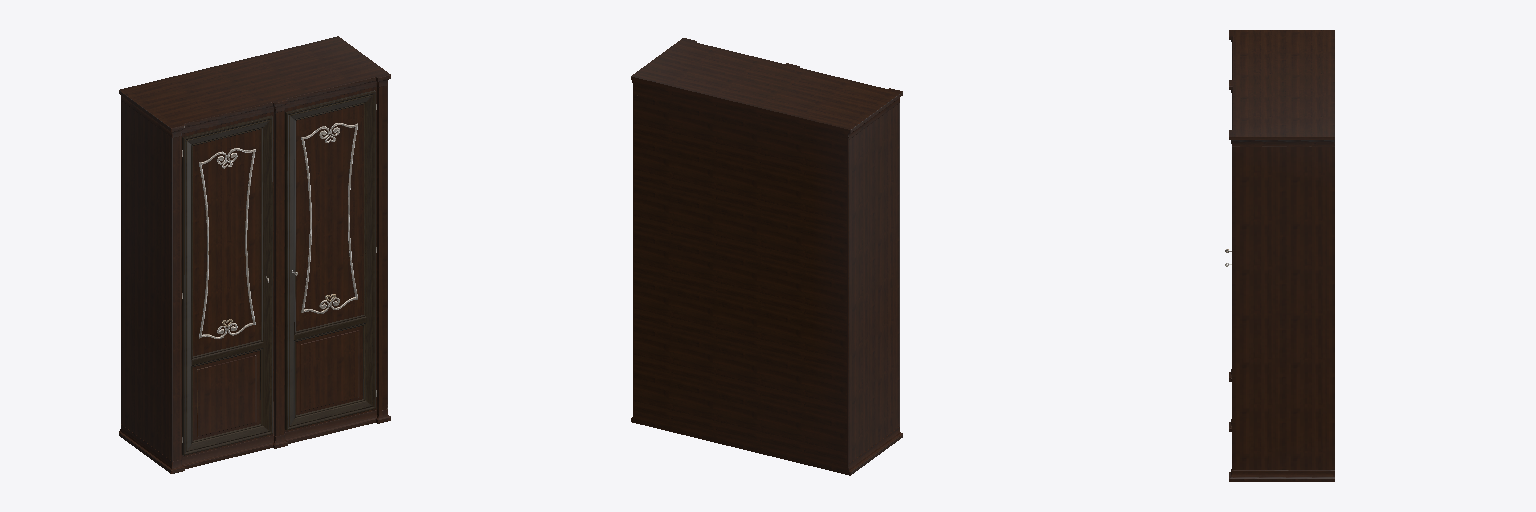
3 views of the same model, side by side, from view 1: azimuth 30°, elevation 25°; view 2: azimuth 150°, elevation 25°; view 3: azimuth 270°, elevation 25° (orthographic).
Parts seen in each view (by area): view 1: solid_001, solid_003, solid_002; view 2: solid_001; view 3: solid_001.
Boxes of the visible parts, x1=… form: solid_001: x1=119, y1=36, x2=390, y2=473; solid_003: x1=182, y1=90, x2=375, y2=455; solid_002: x1=182, y1=104, x2=376, y2=442; solid_001: x1=631, y1=38, x2=902, y2=475; solid_001: x1=1229, y1=30, x2=1334, y2=481.
Bounding box in the file's own units: 0.9999 × 1.5 × 0.4318.
Materials: 1 (1 with a texture image).